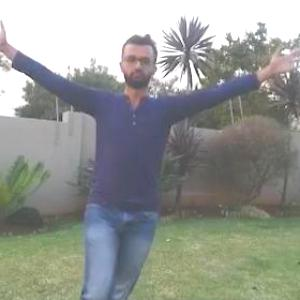takeoff: (0, 23, 297, 299)
